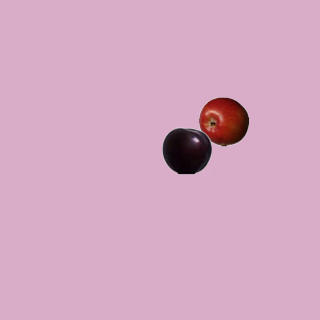Apple Braeburn: (198, 96, 248, 146)
Cherry Wax Black: (161, 125, 211, 175)
